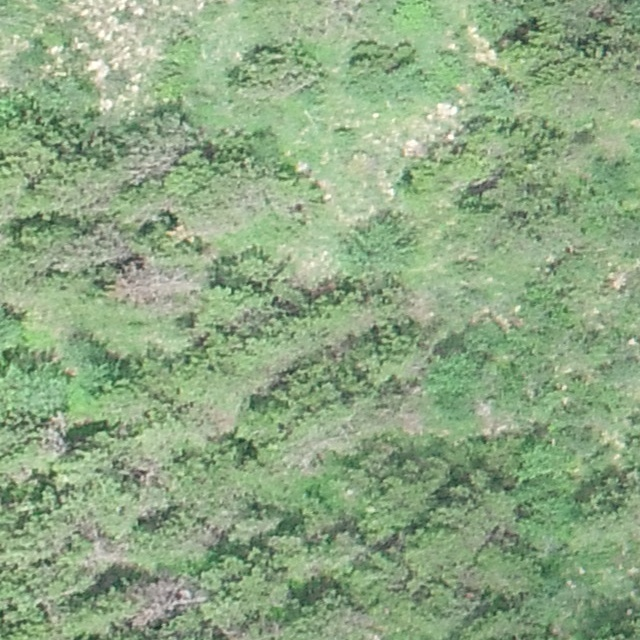unhealthy: (114, 260, 201, 308), (126, 575, 198, 632), (59, 224, 137, 271), (123, 131, 183, 185), (78, 524, 130, 572), (38, 412, 69, 455), (201, 403, 238, 437)
